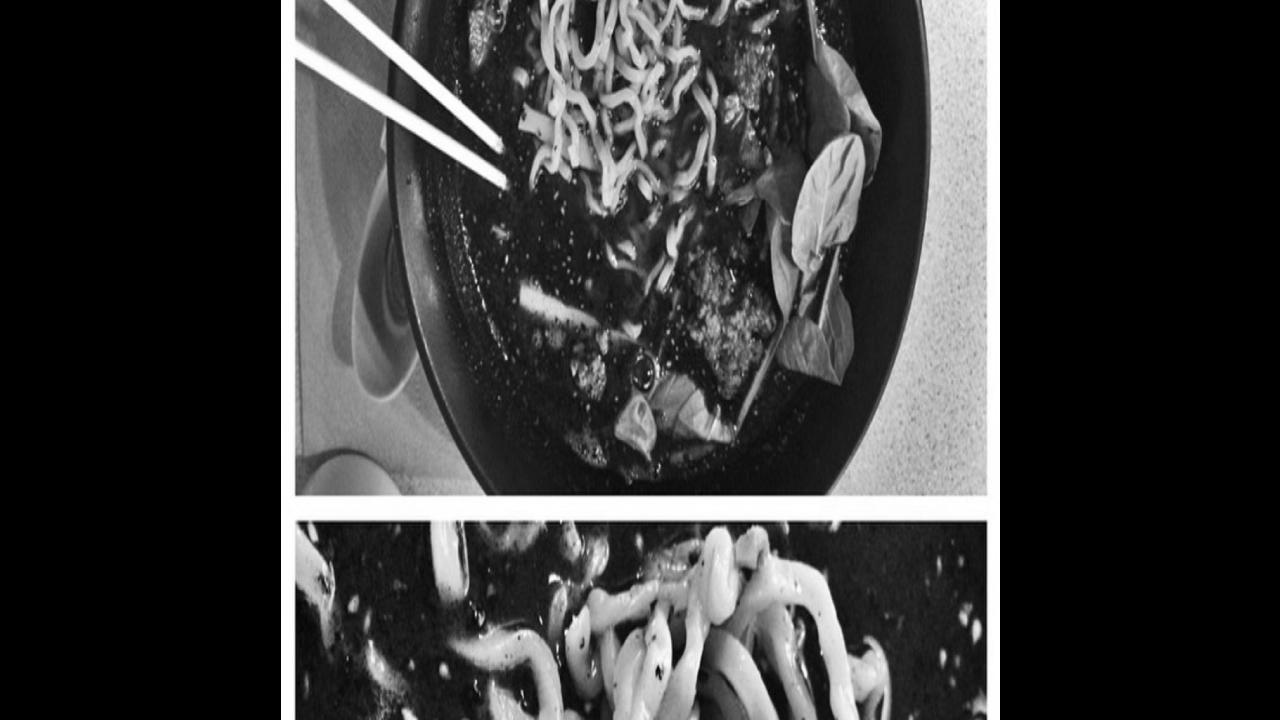chopstick: (293, 0, 504, 200)
